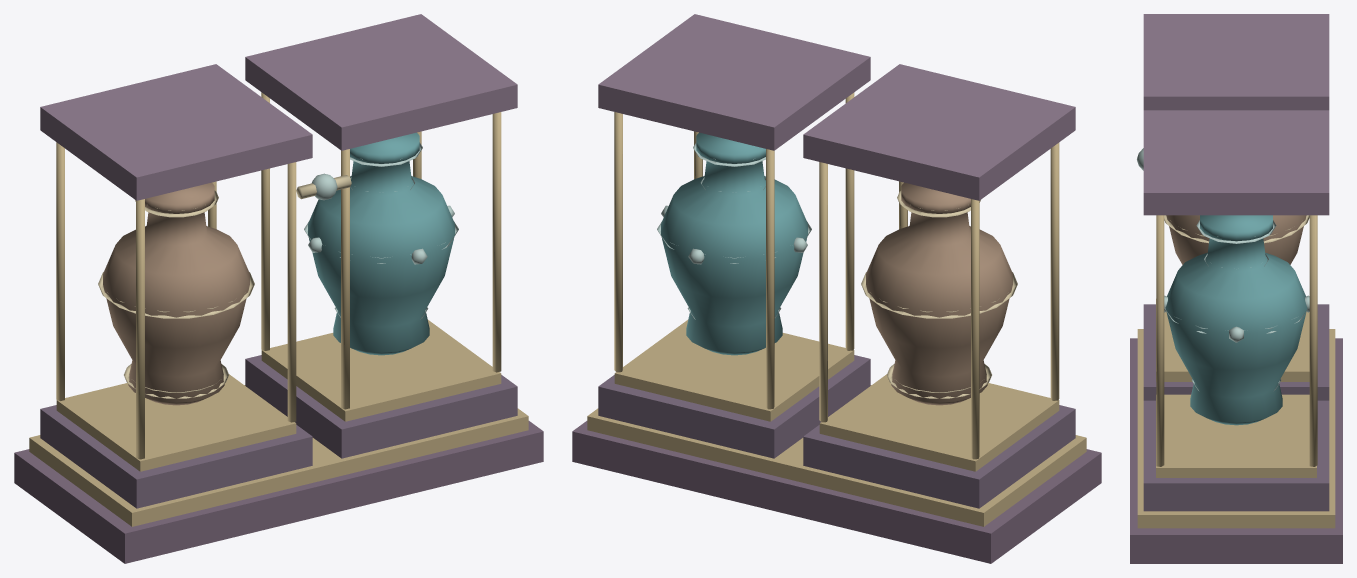
File: ART-24.glb
3 renders of one model, left to right at view 1: azimuth 30°, elevation 25°; view 2: azimuth 150°, elevation 25°; view 3: azimuth 270°, elevation 25°, orthographic. The views are drawn at different scales.
Visible parts, largest first — view 1: world; view 2: world; view 3: world.
Boxes of the visible parts, x1,y1,x2,y2 form: world: (14,14,543,563); world: (572,14,1101,563); world: (1130,14,1342,563).
Bounding box in the file's own units: 2 × 1.72 × 0.9149.
